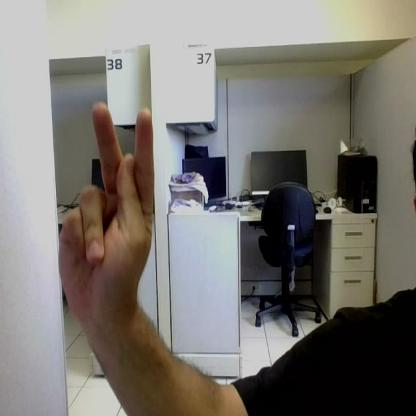K: (58, 102, 152, 310)
